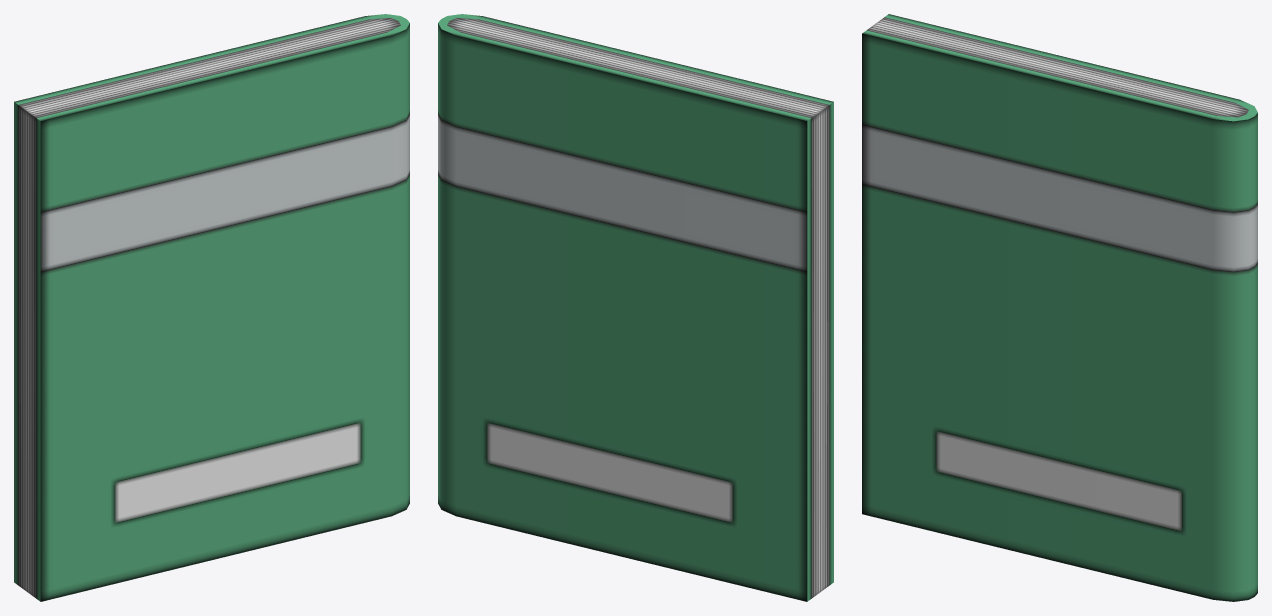
Rendered from book1.fbx.
3 renders of one model, left to right at view 1: azimuth 30°, elevation 25°; view 2: azimuth 150°, elevation 25°; view 3: azimuth 330°, elevation 25°, orthographic.
Parts seen in each view (by area): view 1: polySurface212; view 2: polySurface212; view 3: polySurface212.
Boxes of the visible parts, <box> form: polySurface212: <box>14,14,409,601</box>; polySurface212: <box>438,14,833,601</box>; polySurface212: <box>862,14,1257,601</box>.
Bounding box in the file's own units: 0.3199 × 0.3874 × 0.0391.
